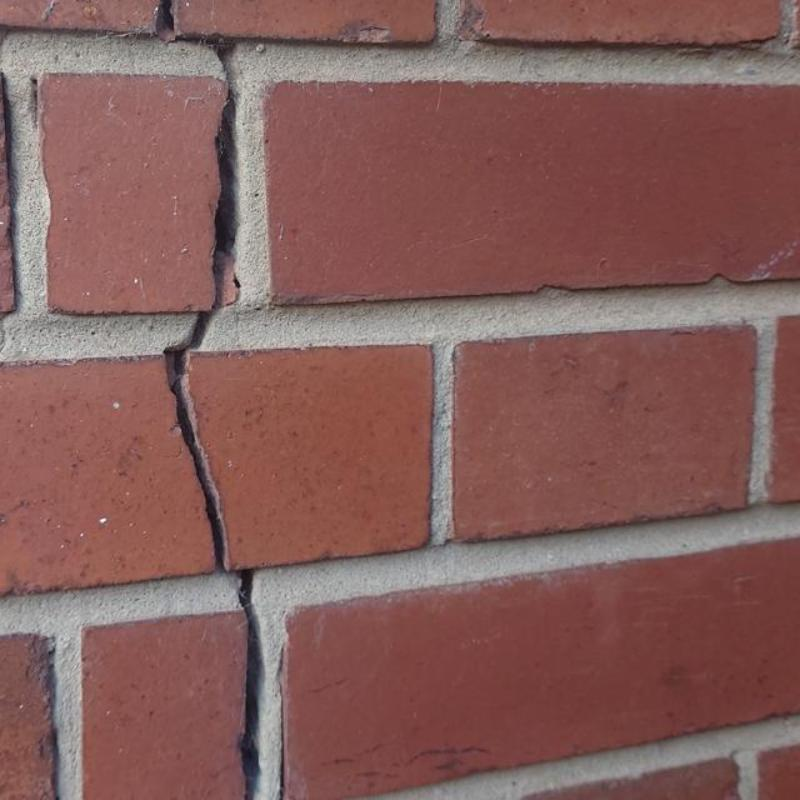pothole: (156, 0, 239, 312), (166, 312, 227, 573), (238, 570, 261, 799)
